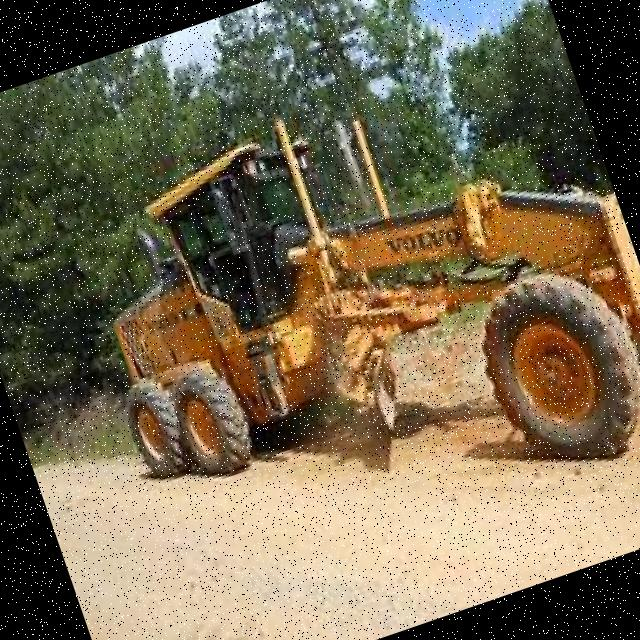Grader: (41, 25, 640, 628)
